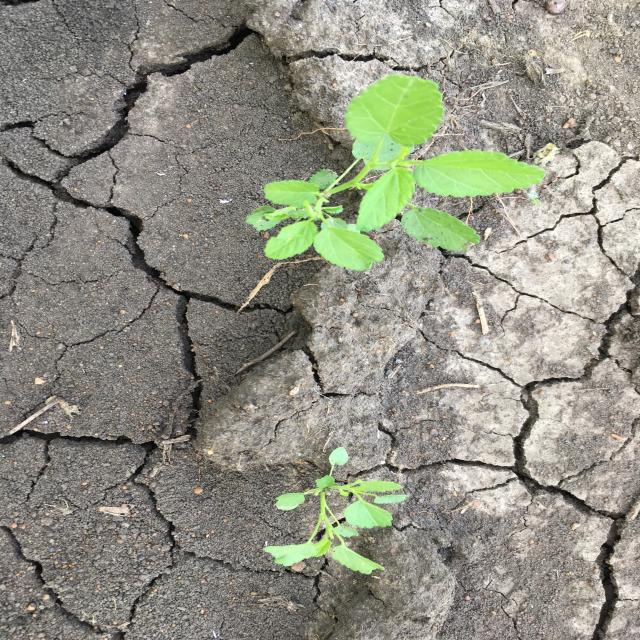PricklySida: (244, 70, 548, 272), (262, 446, 411, 575)
